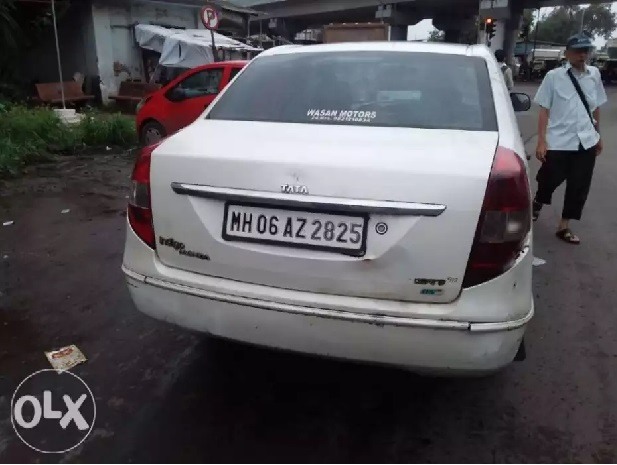licenseplate: (219, 198, 374, 258)
